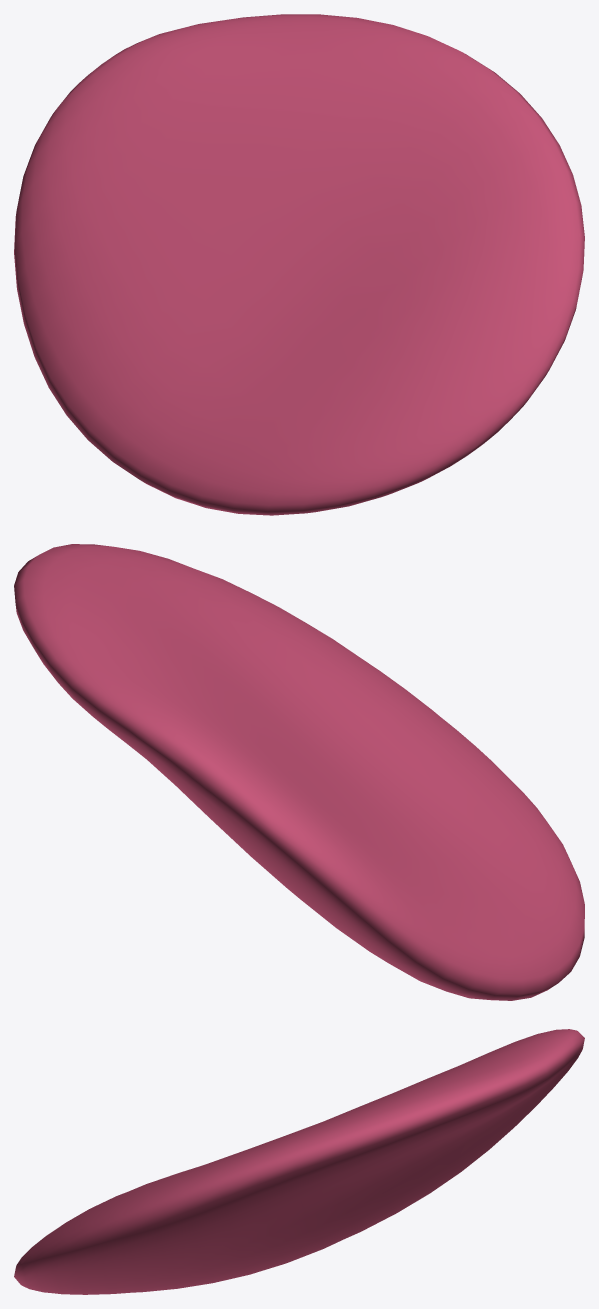
3 views of the same model, one above another, from view 1: azimuth 30°, elevation 25°; view 2: azimuth 150°, elevation 25°; view 3: azimuth 270°, elevation 25° (orthographic). The views are drawn at different scales.
Visible parts, largest first — view 1: 右侧喙肱囊; view 2: 右侧喙肱囊; view 3: 右侧喙肱囊.
Boxes of the visible parts, x1=… form: 右侧喙肱囊: x1=14, y1=14, x2=584, y2=515; 右侧喙肱囊: x1=14, y1=544, x2=584, y2=1000; 右侧喙肱囊: x1=14, y1=1029, x2=584, y2=1294.
Bounding box in the file's own units: 0.0282 × 0.0196 × 0.0324.
